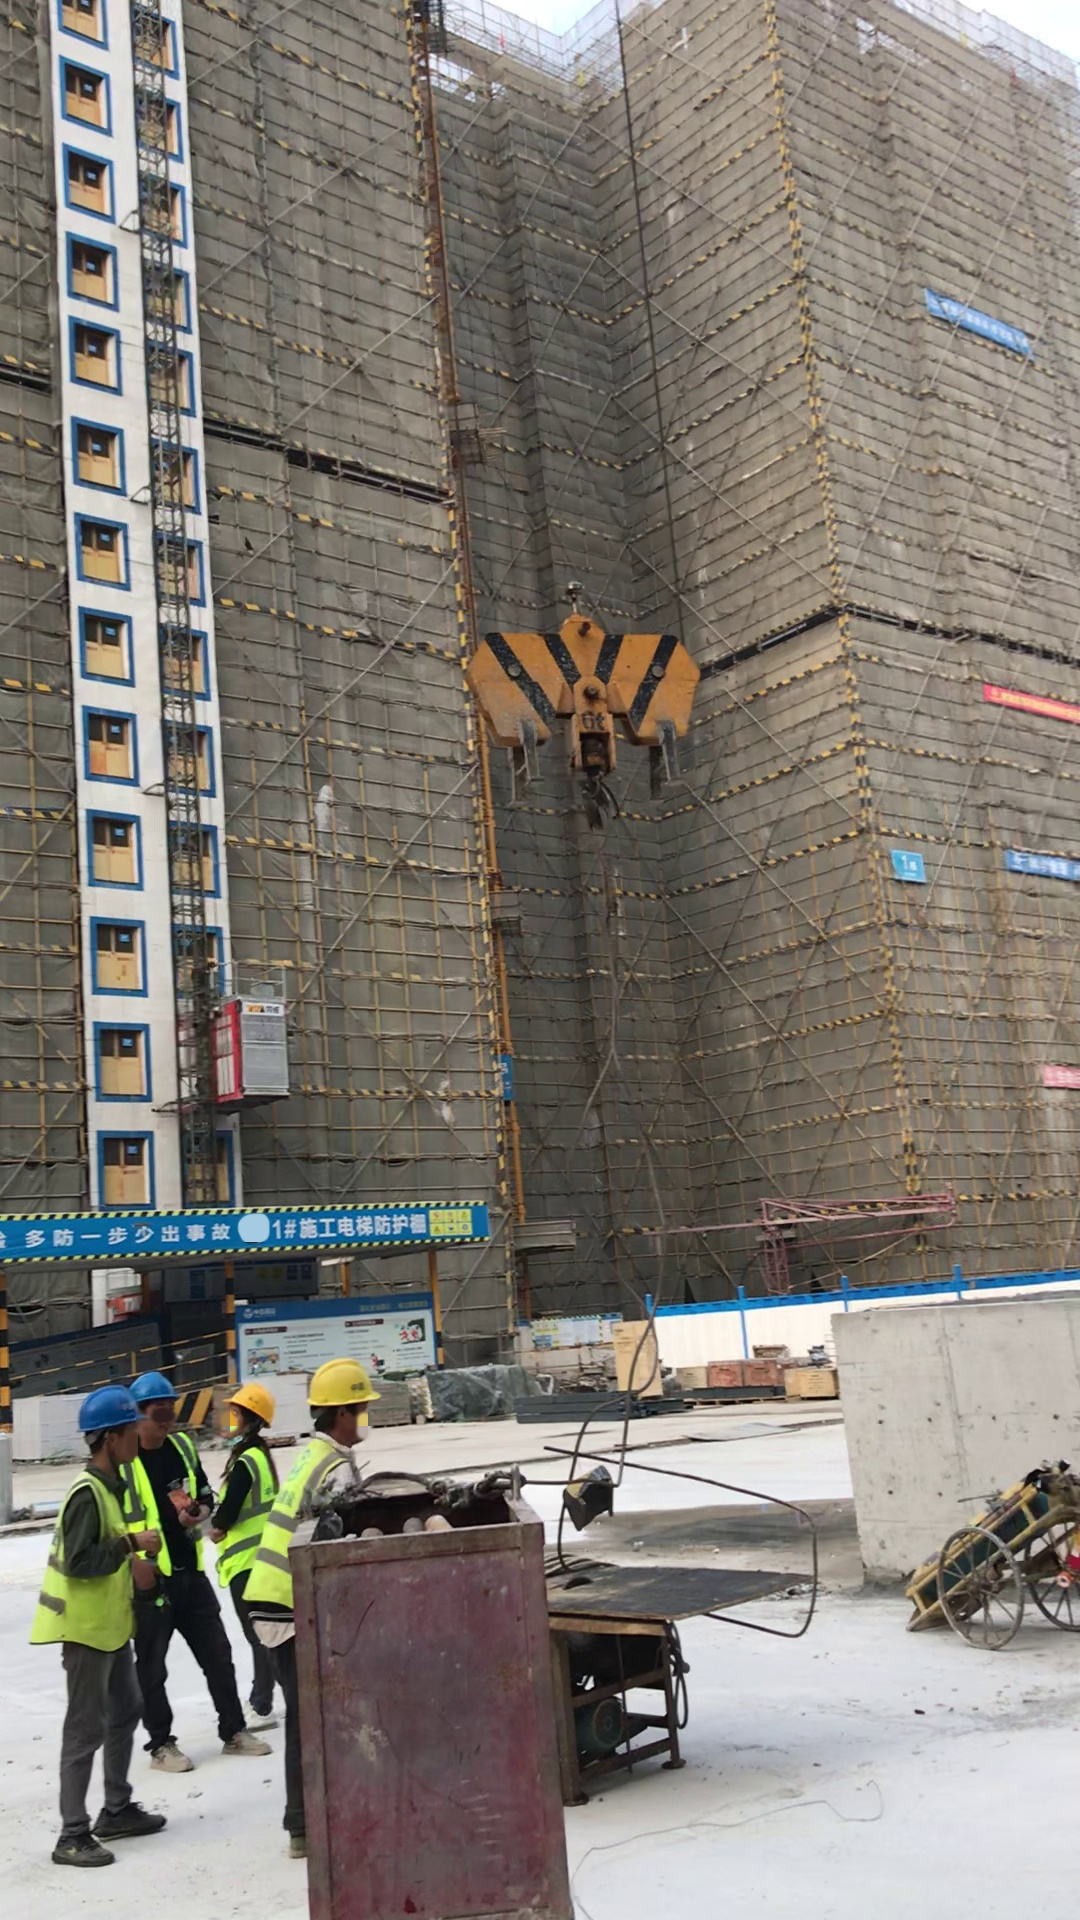brick: (9, 1388, 89, 1461), (253, 1368, 313, 1439)
cutter: (514, 1547, 803, 1817)
handcart: (900, 1457, 1080, 1645)
helmet: (297, 1354, 382, 1413), (71, 1390, 149, 1431), (129, 1371, 182, 1416), (227, 1384, 276, 1426)
hook: (457, 579, 699, 817)
person: (240, 1348, 389, 1873), (35, 1384, 155, 1863), (133, 1365, 246, 1777), (204, 1377, 275, 1604)
slogan: (1, 1204, 485, 1263), (916, 280, 1036, 358), (965, 671, 1080, 739), (997, 845, 1080, 890), (881, 841, 936, 886), (1034, 1055, 1080, 1099)
vest: (34, 1471, 132, 1654), (245, 1444, 352, 1610), (213, 1448, 279, 1585)
